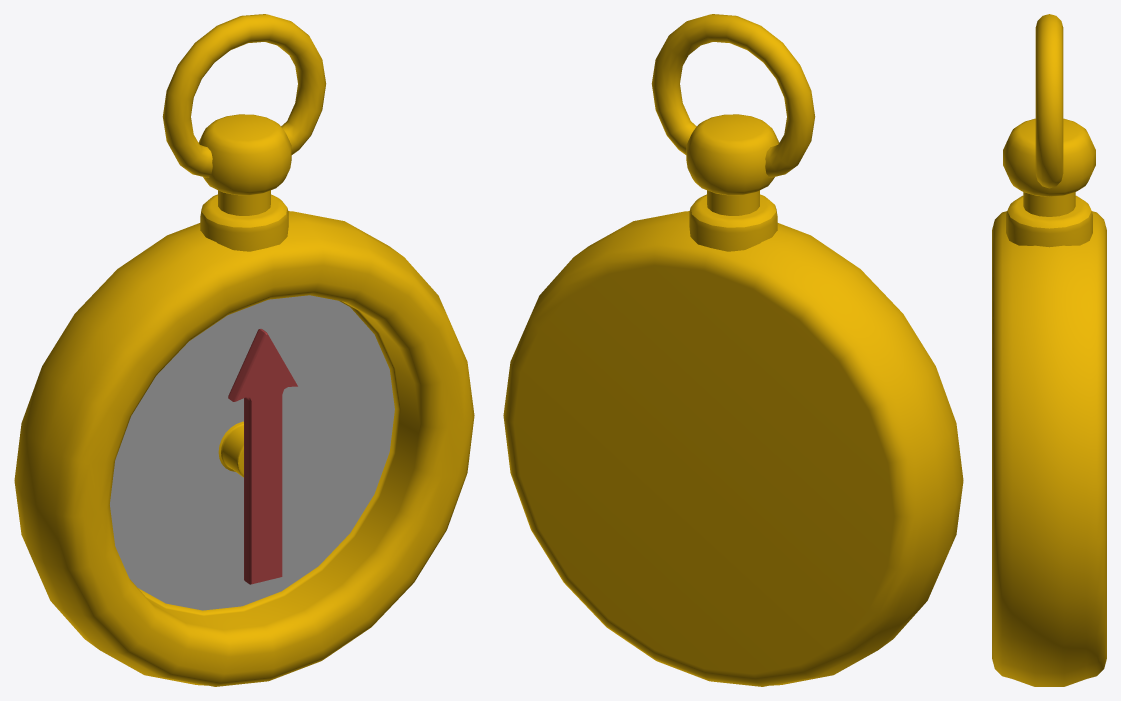
Rendered from CompassAll.fbx.
The picture shows the model from 3 angles, left to right: view 1: azimuth 30°, elevation 25°; view 2: azimuth 150°, elevation 25°; view 3: azimuth 270°, elevation 25°; orthographic projection. The views are drawn at different scales.
Parts seen in each view (by area): view 1: Compass, CompassFace, Arrow; view 2: Compass; view 3: Compass.
Part boxes in pixels (x1,y1,x2,y2): Compass: (14, 14, 474, 686); CompassFace: (110, 295, 394, 610); Arrow: (228, 329, 297, 584); Compass: (503, 14, 963, 686); Compass: (992, 14, 1106, 686).
Size of the model in its own units: 1.35 by 1.96 by 0.3181.
